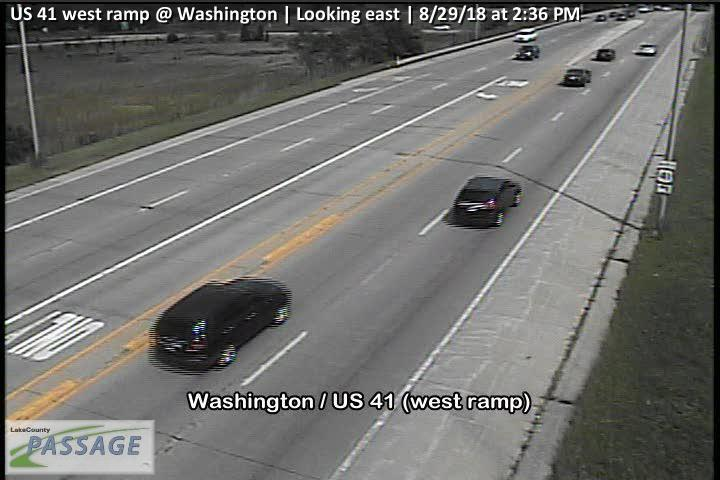SUV: (151, 276, 295, 374), (452, 174, 522, 228), (561, 66, 590, 89), (516, 44, 539, 61)
Sedan: (596, 47, 616, 61), (637, 43, 657, 56)
Truck: (516, 26, 537, 42)
